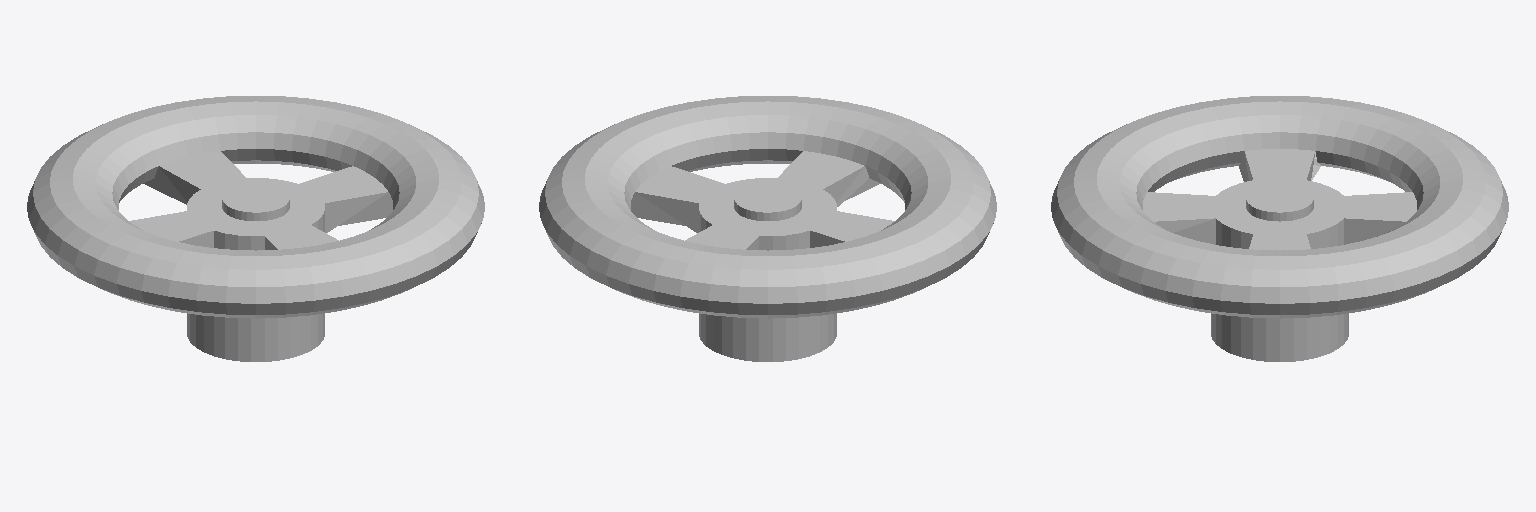
Rendered from door_handle.obj.
3 renders of one model, left to right at view 1: azimuth 30°, elevation 25°; view 2: azimuth 150°, elevation 25°; view 3: azimuth 270°, elevation 25°, orthographic.
Visible parts, largest first — view 1: DoorHandle; view 2: DoorHandle; view 3: DoorHandle.
Boxes of the visible parts, box(x1,y1,x2,y2) form: DoorHandle: box(27, 96, 484, 361); DoorHandle: box(539, 96, 996, 361); DoorHandle: box(1051, 96, 1508, 361).
Bounding box in the file's own units: 0.3302 × 0.1224 × 0.3302.